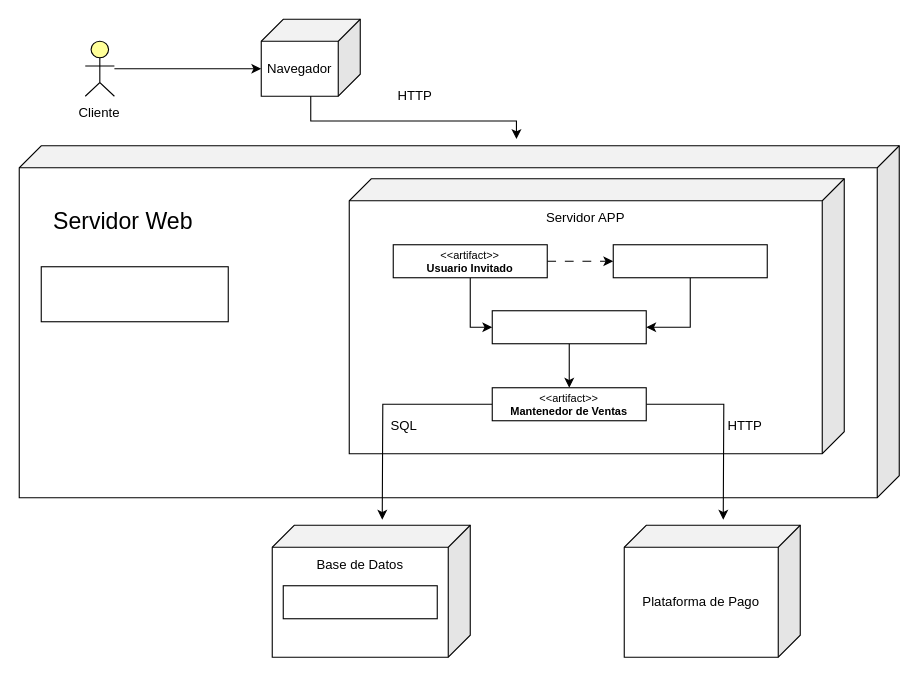
Some shapes in this 919 by 680 pixel diagram are drawn without their labels. The centre of each missing label's shape, as x and y in pixels:
"<<artifact>> Autentificación de Usuario" goes at (x=689, y=261).
"<<artifact>> Carro de Compras" goes at (x=568, y=327).
"<<artifact>> HTML - CSS - JavaScript" goes at (x=134, y=294).
"<<artifact>> Tablas & Procedimientos" goes at (x=359, y=602).
